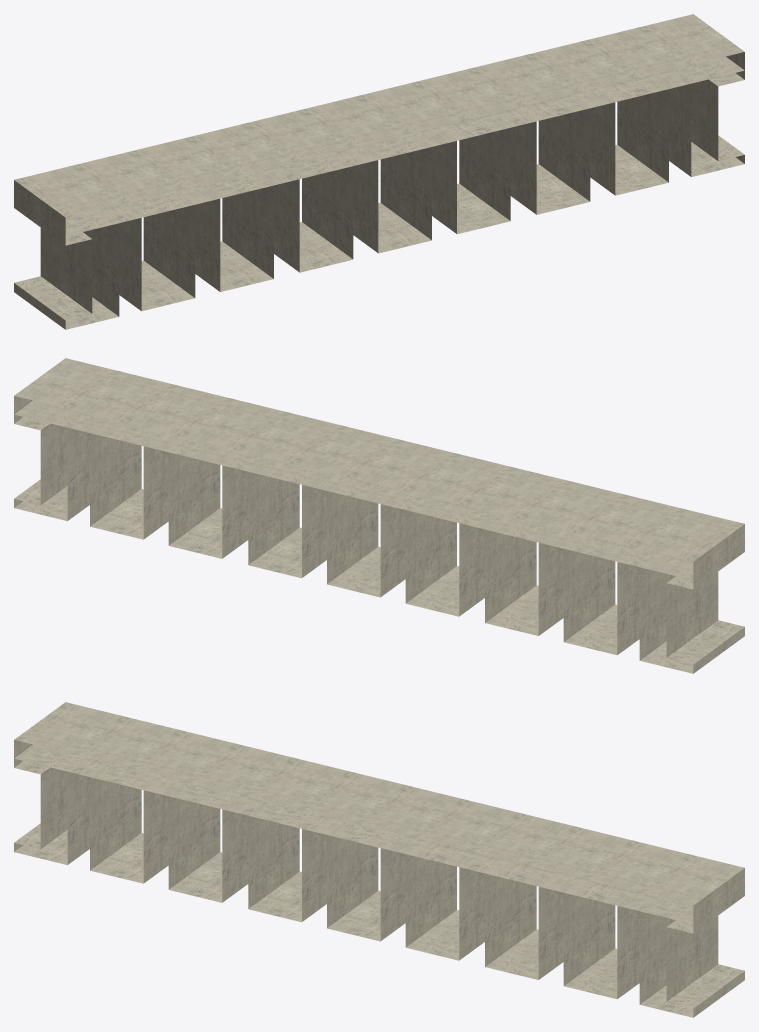
The model's file is BridgeBase5-38w-5l-5d.FBX.
3 views of the same model, one above another, from view 1: azimuth 30°, elevation 25°; view 2: azimuth 150°, elevation 25°; view 3: azimuth 330°, elevation 25° (orthographic).
Parts seen in each view (by area): view 1: BridgeBase5-38w-5l-5d; view 2: BridgeBase5-38w-5l-5d; view 3: BridgeBase5-38w-5l-5d.
Boxes of the visible parts, <box> form: BridgeBase5-38w-5l-5d: <box>14,14,744,329</box>; BridgeBase5-38w-5l-5d: <box>14,358,744,673</box>; BridgeBase5-38w-5l-5d: <box>14,702,744,1017</box>.
Size of the model in its own units: 38 by 6 by 5.
